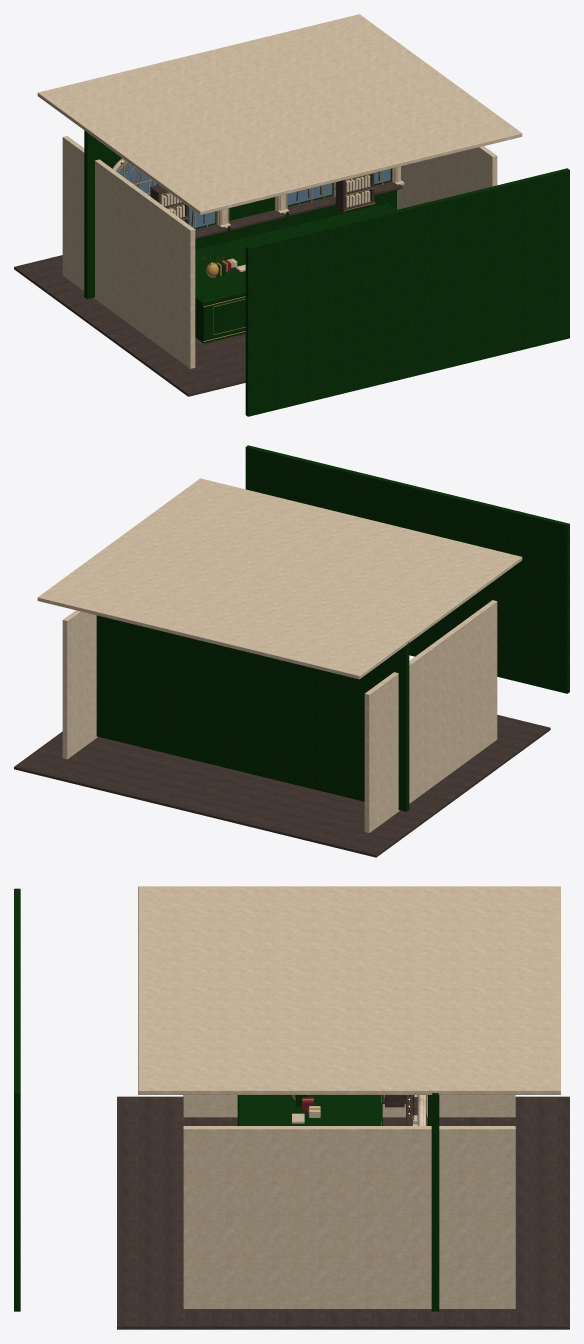
The model's file is shop.glb.
The picture shows the model from 3 angles, top to bottom: view 1: azimuth 30°, elevation 25°; view 2: azimuth 150°, elevation 25°; view 3: azimuth 270°, elevation 25°; orthographic projection. The views are drawn at different scales.
Parts seen in each view (by area): view 1: SHOP; view 2: SHOP; view 3: SHOP.
Part boxes in pixels (<box>): SHOP: <box>14,14,569,416</box>; SHOP: <box>14,445,569,857</box>; SHOP: <box>14,886,569,1329</box>.
Size of the model in its own units: 18 by 8.59 by 18.41.
15 materials, 11 textured.
